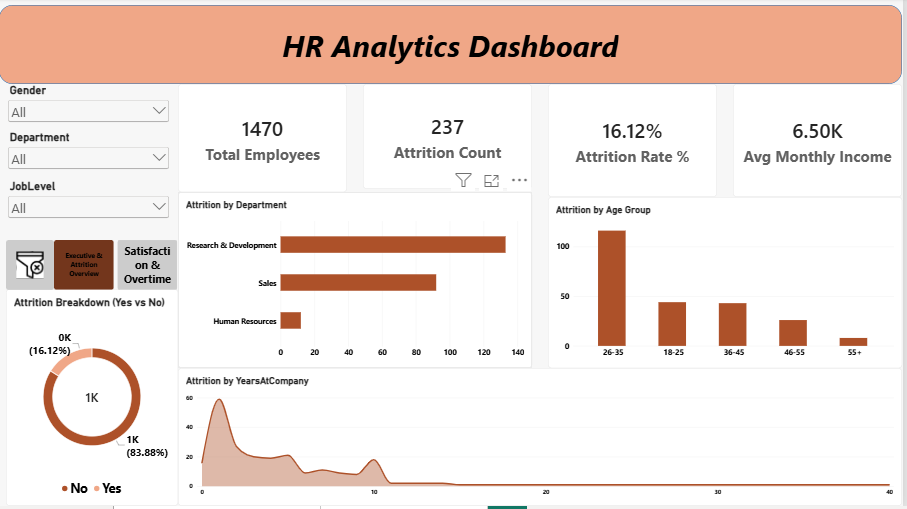

This screenshot's page, from the dashboard's own definition file:
{"tool":"powerbi","page":{"name":"Executive & Attrition Overview","canvas":[1920,1080],"ordinal":0},"visuals":[{"type":"shape","box":[0,14.9,1919.8,168],"z":0},{"type":"card","fields":{"Values":["Measures_.Attrition Count"]},"box":[773.9,182.8,359.3,223.2],"z":1000},{"type":"card","fields":{"Values":["Measures_.Total Employees"]},"box":[380.6,182.8,359.3,229.6],"z":2000},{"type":"card","fields":{"Values":["Measures_.Attrition Rate %"]},"box":[1167.2,182.8,359.3,240.2],"z":3000},{"type":"card","fields":{"Values":["Measures_.Avg Monthly Income"]},"box":[1560.5,182.8,359.3,240.2],"z":4000},{"type":"slicer","fields":{"Values":["HR_Analytics (2).Gender"]},"box":[14.9,182.8,350.8,112.7],"z":5000},{"type":"slicer","fields":{"Values":["HR_Analytics (2).Department"]},"box":[14.9,282.8,350.8,104.2],"z":6000},{"type":"slicer","fields":{"Values":["HR_Analytics (2).JobLevel"]},"box":[14.9,386.9,350.8,97.8],"z":7000},{"type":"donutChart","title":"Attrition Breakdown (Yes vs No)","fields":{"Category":["HR_Analytics (2).Attrition"],"Y":["Measures_.Total Employees"]},"box":[14.9,618.7,365.7,461.3],"z":7002},{"type":"clusteredBarChart","title":"Attrition by Department","fields":{"Category":["HR_Analytics (2).Department"],"Y":["Measures_.Attrition Count"]},"box":[380.6,412.4,752.6,374.2],"z":7003},{"type":"clusteredColumnChart","title":"Attrition by Age Group","fields":{"Category":["HR_Analytics (2).AgeGroup"],"Y":["Measures_.Attrition Count"]},"box":[1167.2,423.1,752.6,363.5],"z":7004},{"type":"areaChart","title":"Attrition by YearsAtCompany","fields":{"Category":["HR_Analytics (2).YearsAtCompany"],"Y":["Measures_.Attrition Count"]},"box":[380.6,786.6,1539.2,293.4],"z":7005},{"type":"actionButton","box":[14.9,514.5,102,106.3],"z":7006},{"type":"pageNavigator","box":[116.9,514.5,263.6,106.3],"z":7007}]}

Visuals, with their boxes in screenshot pixels (x1, y1, x2, y2), scaled from the page's 1920x1080 canvas onto the 907x509 screenshot:
shape: x1=0, y1=7, x2=906, y2=86
card - Measures_.Attrition Count: x1=366, y1=86, x2=535, y2=191
card - Measures_.Total Employees: x1=180, y1=86, x2=350, y2=194
card - Measures_.Attrition Rate %: x1=551, y1=86, x2=721, y2=199
card - Measures_.Avg Monthly Income: x1=737, y1=86, x2=906, y2=199
slicer - HR_Analytics (2).Gender: x1=7, y1=86, x2=173, y2=139
slicer - HR_Analytics (2).Department: x1=7, y1=133, x2=173, y2=182
slicer - HR_Analytics (2).JobLevel: x1=7, y1=182, x2=173, y2=228
"Attrition Breakdown (Yes vs No)" donutChart: x1=7, y1=292, x2=180, y2=508
"Attrition by Department" clusteredBarChart: x1=180, y1=194, x2=535, y2=371
"Attrition by Age Group" clusteredColumnChart: x1=551, y1=199, x2=906, y2=371
"Attrition by YearsAtCompany" areaChart: x1=180, y1=371, x2=906, y2=508
actionButton: x1=7, y1=242, x2=55, y2=293
pageNavigator: x1=55, y1=242, x2=180, y2=293
